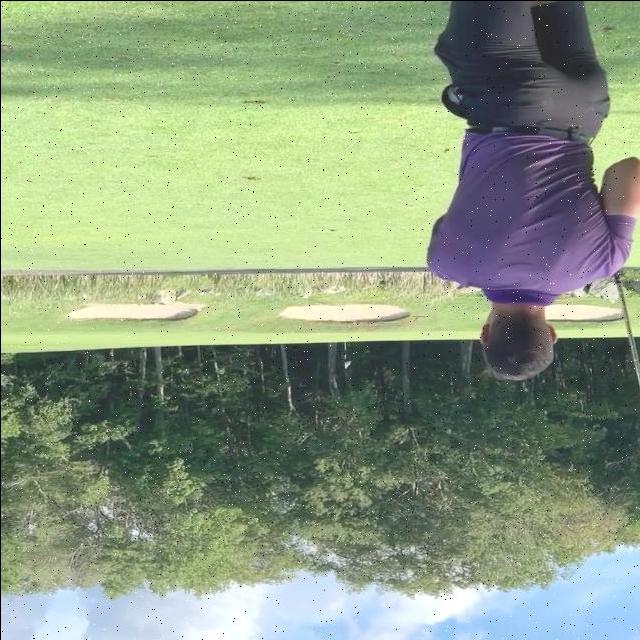golf club-handle: (613, 270, 639, 392)
